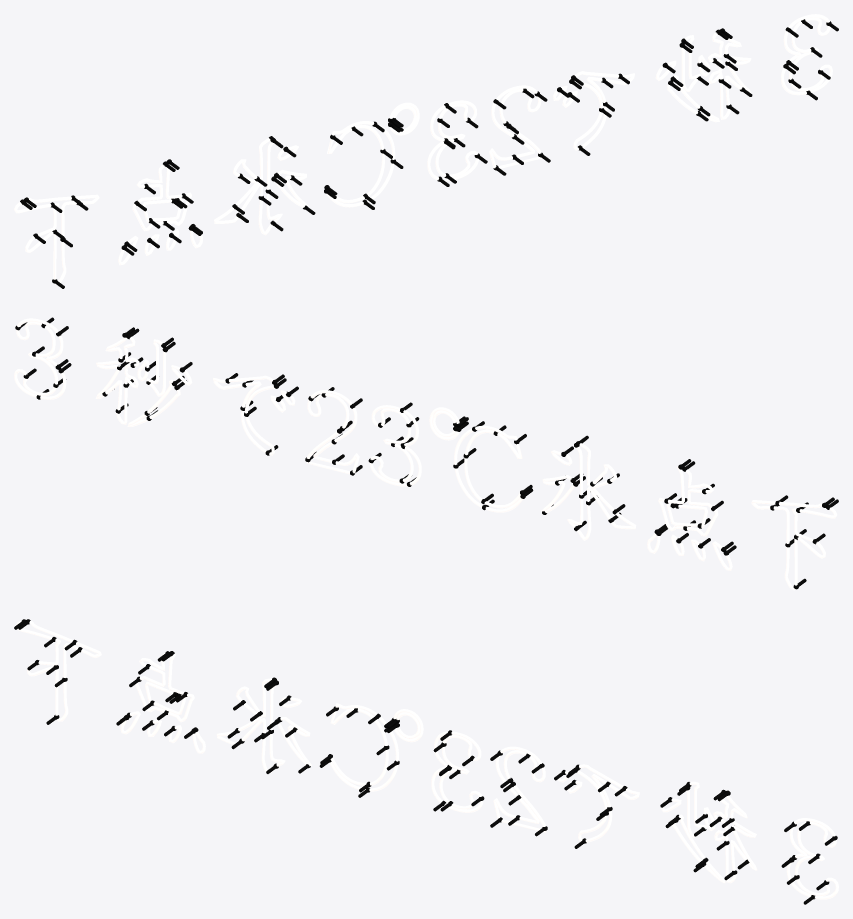
Rendered from neon_3byoude23dohyoutenka.fbx.
3 renders of one model, top to bottom at view 1: azimuth 30°, elevation 25°; view 2: azimuth 150°, elevation 25°; view 3: azimuth 330°, elevation 25°, orthographic.
Parts seen in each view (by area): view 1: NeonEnglish; view 2: NeonEnglish; view 3: NeonEnglish.
Part boxes in pixels (left/top/right/bottom): NeonEnglish: left=14, top=14, right=838, bottom=288; NeonEnglish: left=14, top=317, right=838, bottom=590; NeonEnglish: left=14, top=619, right=838, bottom=904.
Bounding box in the file's own units: 1015 × 118 × 21.29.
